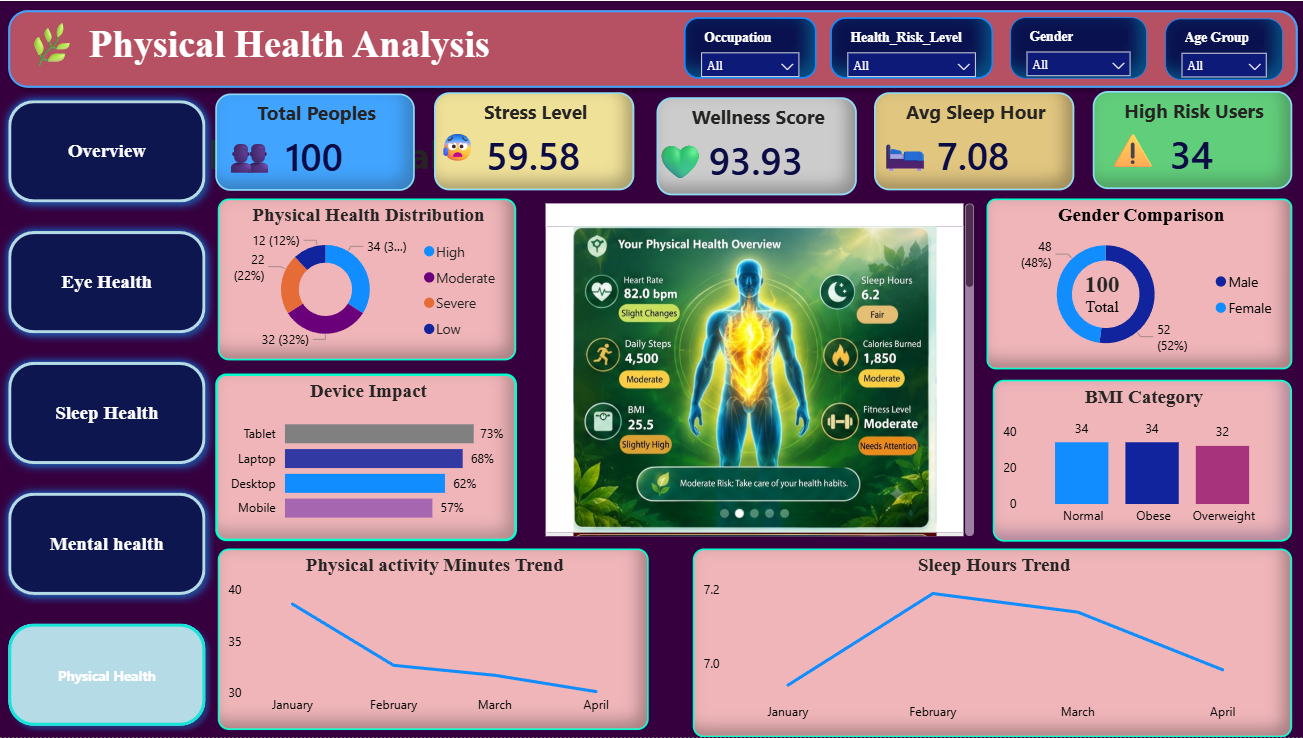

This screenshot's page, from the dashboard's own definition file:
{"tool":"powerbi","page":{"name":"Physical Health","canvas":[1280,720],"ordinal":4},"visuals":[{"type":"shape","box":[0,0,1279.6,93.9],"z":0},{"type":"textbox","box":[28.6,119.4,1251,60.2],"z":1000},{"type":"pageNavigator","box":[0,87.8,211.2,632.7],"z":2000},{"type":"cardVisual","title":"Total Peoples","fields":{"Data":["CountNonNull(Digital_Screen_Time_Health_Impact_100Rows.User_ID)"]},"box":[211.2,90.8,194.9,94.9],"z":2000,"group":"g2"},{"type":"cardVisual","title":"Stress Level","fields":{"Data":["Avg(Digital_Screen_Time_Health_Impact_100Rows.Stress_Level)"]},"box":[425.5,89.8,195.9,95.9],"z":3000},{"type":"donutChart","title":"Physical Health Distribution","fields":{"Category":["Digital_Screen_Time_Health_Impact_100Rows.Health_Risk_Level"],"Y":["CountNonNull(Digital_Screen_Time_Health_Impact_100Rows.User_ID)"]},"box":[214.3,192.9,291.8,158.2],"z":4000},{"type":"cardVisual","title":"Wellness Score","fields":{"Data":["Avg(Digital_Screen_Time_Health_Impact_100Rows.Wellness_Score)"]},"box":[642.8,93.9,195.9,95.9],"z":5000,"group":"g3"},{"type":"group","id":"g1","title":"Group 2","box":[966.3,192.9,299,167.3],"z":5000},{"type":"cardVisual","title":"Avg Sleep Hour","fields":{"Data":["Avg(Digital_Screen_Time_Health_Impact_100Rows.Avg Sleep Hours)"]},"box":[856.1,89.8,195.9,95.9],"z":6000,"group":"g4"},{"type":"clusteredBarChart","title":"Device Impact","fields":{"Category":["Digital_Screen_Time_Health_Impact_100Rows.Device_Type"],"Y":["Digital_Screen_Time_Health_Impact_100Rows.Device Impact %"]},"box":[211.2,364.3,294.9,164.3],"z":6000},{"type":"cardVisual","title":"High Risk Users","fields":{"Data":["Sum(Digital_Screen_Time_Health_Impact_100Rows.High Risk Users)"]},"box":[1070.4,87.8,194.9,95.9],"z":7000,"group":"g5"},{"type":"clusteredColumnChart","title":" BMI Category","fields":{"Category":["Digital_Screen_Time_Health_Impact_100Rows.BMI Category"],"Y":["CountNonNull(Digital_Screen_Time_Health_Impact_100Rows.User_ID)"]},"box":[972.4,370.4,292.9,158.2],"z":7000},{"type":"lineChart","title":"Physical activity Minutes Trend","fields":{"Y":["Avg(Digital_Screen_Time_Health_Impact_100Rows.Physical_Activity_Minutes)"],"Category":["Digital_Screen_Time_Health_Impact_100Rows.Date.Variation.Date Hierarchy.Month"]},"box":[214.3,535.7,421.4,177.6],"z":8000},{"type":"lineChart","title":"Sleep Hours Trend","fields":{"Category":["Digital_Screen_Time_Health_Impact_100Rows.Date.Variation.Date Hierarchy.Month"],"Y":["Avg(Digital_Screen_Time_Health_Impact_100Rows.Sleep_Hours)"]},"box":[678.6,535.7,586.7,184.7],"z":9000},{"type":"textbox","box":[425.5,118.4,52,51],"z":10000},{"type":"donutChart","title":"Gender Comparison","fields":{"Category":["Digital_Screen_Time_Health_Impact_100Rows.Gender"],"Y":["CountNonNull(Digital_Screen_Time_Health_Impact_100Rows.User_ID)"]},"box":[966.3,192.9,299,167.3],"z":10000,"group":"g1"},{"type":"group","id":"g2","title":"Group 1","box":[211.2,90.8,194.9,94.9],"z":11000},{"type":"cardVisual","fields":{"Data":["Digital_Screen_Time_Health_Impact_100Rows.Total Risk Users"]},"box":[1036.1,244.3,87.8,84.2],"z":11000,"group":"g1"},{"type":"group","id":"g3","title":"Group 3","box":[635.7,93.9,203.1,95.9],"z":12000},{"type":"group","id":"g4","title":"Group 4","box":[856.1,89.8,195.9,95.9],"z":13000},{"type":"textbox","box":[214.3,117.3,60.2,66.3],"z":13001,"group":"g2"},{"type":"textbox","box":[856.1,116.3,63.3,63.3],"z":13002,"group":"g4"},{"type":"textbox","box":[635.7,123.5,69.4,60.2],"z":13004,"group":"g3"},{"type":"textbox","box":[1078.6,112.3,75.5,61.2],"z":13005,"group":"g5"},{"type":"group","id":"g5","title":"Group 5","box":[1070.4,87.8,194.9,95.9],"z":14000},{"type":"textbox","box":[83.7,16.3,1172.4,59.2],"z":15000},{"type":"textbox","box":[18.4,6.1,72.4,79.6],"z":16000},{"type":"slicer","fields":{"Values":["Digital_Screen_Time_Health_Impact_100Rows.Occupation"]},"box":[670.4,16.3,129.6,60.2],"z":17000},{"type":"slicer","fields":{"Values":["Digital_Screen_Time_Health_Impact_100Rows.Health_Risk_Level"]},"box":[813.3,16.3,159.2,60.2],"z":18000},{"type":"slicer","fields":{"Values":["Digital_Screen_Time_Health_Impact_100Rows.Gender"]},"box":[989.8,15.3,133.7,60.2],"z":19000},{"type":"slicer","fields":{"Values":["Digital_Screen_Time_Health_Impact_100Rows.Age Group"]},"box":[1140.8,17.3,115.3,60.2],"z":20000},{"type":"tableEx","fields":{"Values":["Physical Health Images.ImageUrl"]},"box":[528,193.2,430.4,335.1],"z":21000}]}

Visuals, with their boxes in screenshot pixels (x1, y1, x2, y2), scaled from the page's 1280x720 canvas onto the 1303x738 screenshot:
shape: pyautogui.locateOnScreen(0, 0, 1302, 96)
textbox: pyautogui.locateOnScreen(29, 122, 1302, 184)
pageNavigator: pyautogui.locateOnScreen(0, 90, 215, 737)
"Total Peoples" cardVisual: pyautogui.locateOnScreen(215, 93, 413, 190)
"Stress Level" cardVisual: pyautogui.locateOnScreen(433, 92, 633, 190)
"Physical Health Distribution" donutChart: pyautogui.locateOnScreen(218, 198, 515, 360)
"Wellness Score" cardVisual: pyautogui.locateOnScreen(654, 96, 854, 195)
"Group 2" group: pyautogui.locateOnScreen(984, 198, 1288, 369)
"Avg Sleep Hour" cardVisual: pyautogui.locateOnScreen(871, 92, 1071, 190)
"Device Impact" clusteredBarChart: pyautogui.locateOnScreen(215, 373, 515, 542)
"High Risk Users" cardVisual: pyautogui.locateOnScreen(1090, 90, 1288, 188)
" BMI Category" clusteredColumnChart: pyautogui.locateOnScreen(990, 380, 1288, 542)
"Physical activity Minutes Trend" lineChart: pyautogui.locateOnScreen(218, 549, 647, 731)
"Sleep Hours Trend" lineChart: pyautogui.locateOnScreen(691, 549, 1288, 737)
textbox: pyautogui.locateOnScreen(433, 121, 486, 174)
"Gender Comparison" donutChart: pyautogui.locateOnScreen(984, 198, 1288, 369)
"Group 1" group: pyautogui.locateOnScreen(215, 93, 413, 190)
cardVisual - Digital_Screen_Time_Health_Impact_100Rows.Total Risk Users: pyautogui.locateOnScreen(1055, 250, 1144, 337)
"Group 3" group: pyautogui.locateOnScreen(647, 96, 854, 195)
"Group 4" group: pyautogui.locateOnScreen(871, 92, 1071, 190)
textbox: pyautogui.locateOnScreen(218, 120, 279, 188)
textbox: pyautogui.locateOnScreen(871, 119, 936, 184)
textbox: pyautogui.locateOnScreen(647, 127, 718, 188)
textbox: pyautogui.locateOnScreen(1098, 115, 1175, 178)
"Group 5" group: pyautogui.locateOnScreen(1090, 90, 1288, 188)
textbox: pyautogui.locateOnScreen(85, 17, 1279, 77)
textbox: pyautogui.locateOnScreen(19, 6, 92, 88)
slicer - Digital_Screen_Time_Health_Impact_100Rows.Occupation: pyautogui.locateOnScreen(682, 17, 814, 78)
slicer - Digital_Screen_Time_Health_Impact_100Rows.Health_Risk_Level: pyautogui.locateOnScreen(828, 17, 990, 78)
slicer - Digital_Screen_Time_Health_Impact_100Rows.Gender: pyautogui.locateOnScreen(1008, 16, 1144, 77)
slicer - Digital_Screen_Time_Health_Impact_100Rows.Age Group: pyautogui.locateOnScreen(1161, 18, 1279, 79)
tableEx - Physical Health Images.ImageUrl: pyautogui.locateOnScreen(537, 198, 976, 542)
